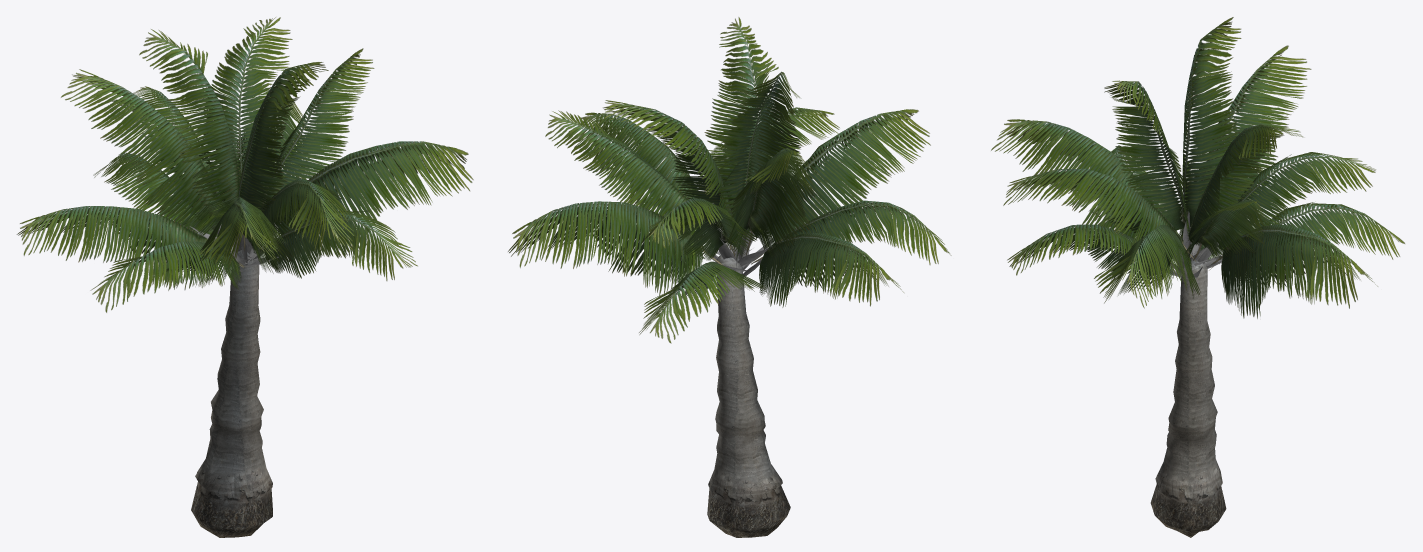
3 views of the same model, side by side, from view 1: azimuth 30°, elevation 25°; view 2: azimuth 150°, elevation 25°; view 3: azimuth 270°, elevation 25° (orthographic). The views are drawn at different scales.
Parts seen in each view (by area): view 1: Object_3, Object_2; view 2: Object_3, Object_2; view 3: Object_3, Object_2.
Part boxes in pixels (bbox=[...]): Object_3: bbox=[17, 17, 473, 312]; Object_2: bbox=[191, 250, 272, 537]; Object_3: bbox=[508, 17, 951, 343]; Object_2: bbox=[707, 253, 790, 537]; Object_3: bbox=[991, 17, 1404, 318]; Object_2: bbox=[1150, 260, 1226, 537].
Size of the model in its own units: 9.4 by 11.24 by 8.89.
Materials: 2 (2 with a texture image).
